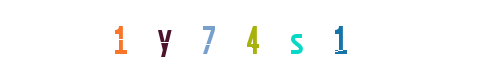1: (80, 0, 160, 80), (280, 0, 360, 80)
4: (205, 0, 285, 80)
7: (171, 0, 251, 80)
S: (213, 0, 293, 80)
Y: (124, 0, 204, 80)
